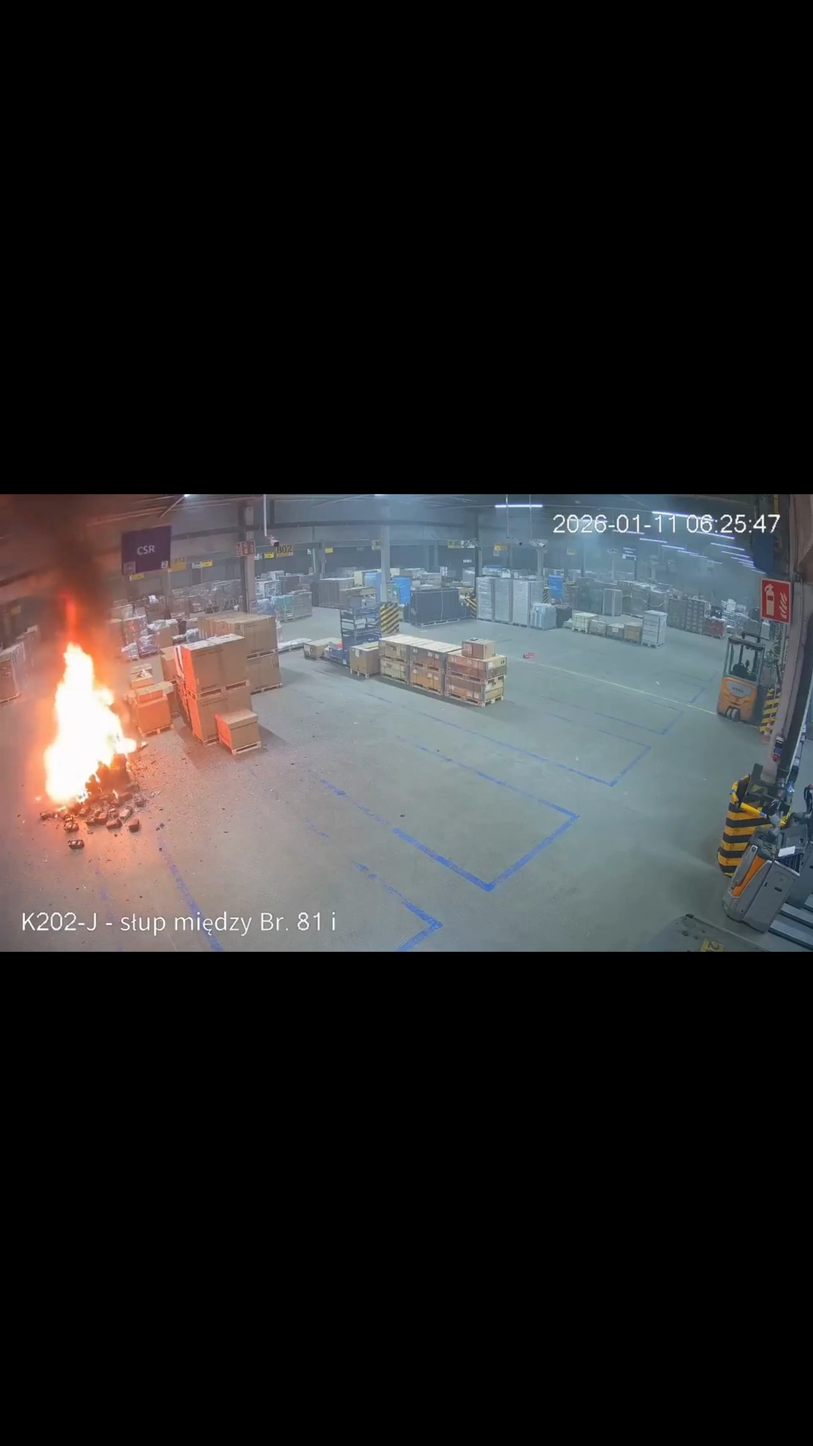fire: (25, 619, 154, 826)
